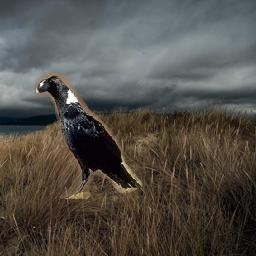Crow: (36, 73, 143, 199)
